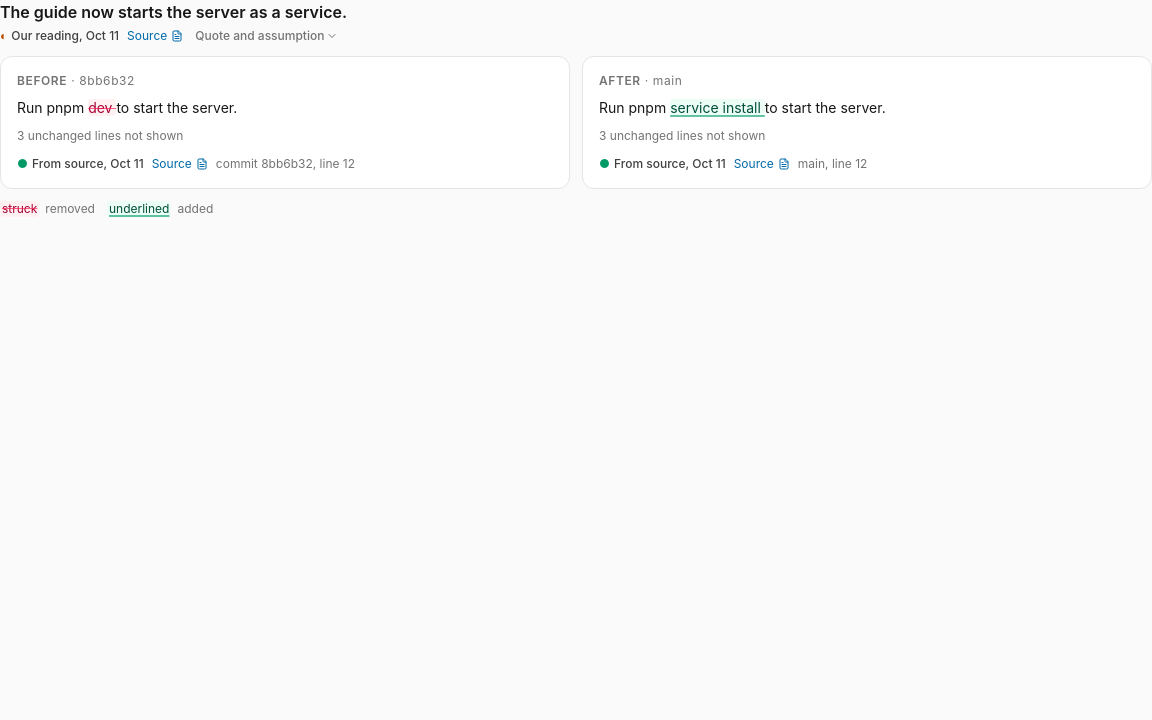
BeforeAfter › gives the stated change its own mark and quote/assumption, beneath its statement
Click the button "Quote and assumption": (267,36) [195,28,338,44]
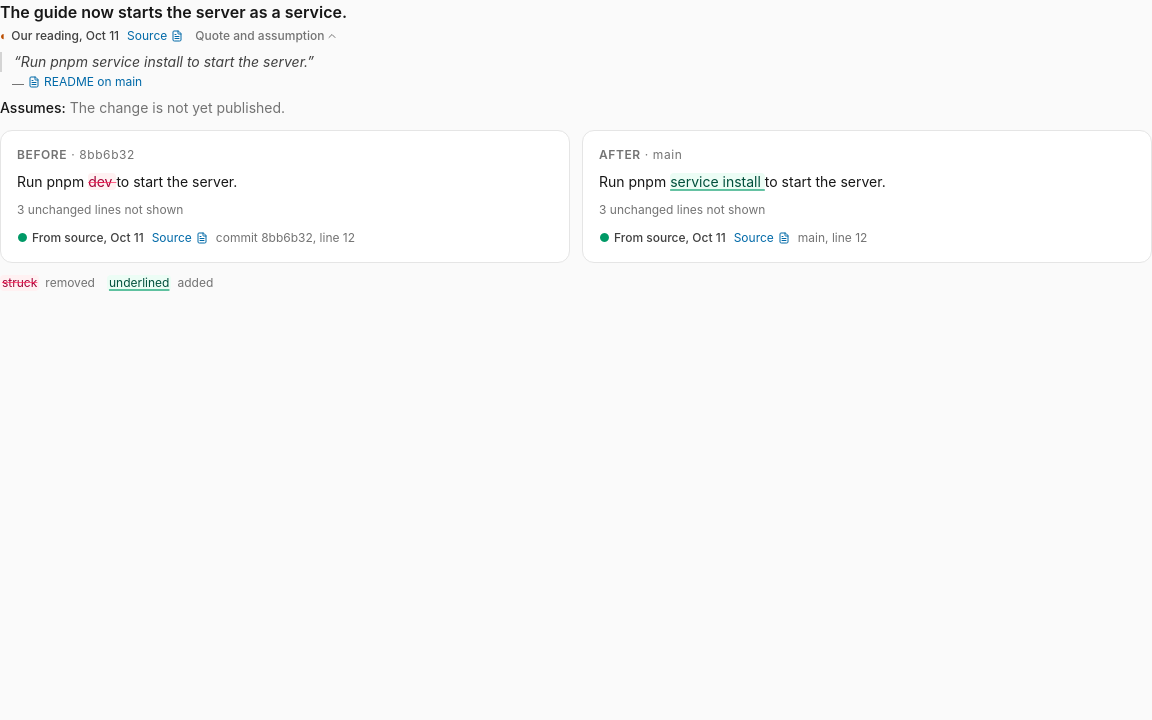
Expected: the text "The change is not yet published." is shown, [70,99,285,116]
Click the button "◐ Our reading, Oct 11": (60,36) [0,28,119,44]
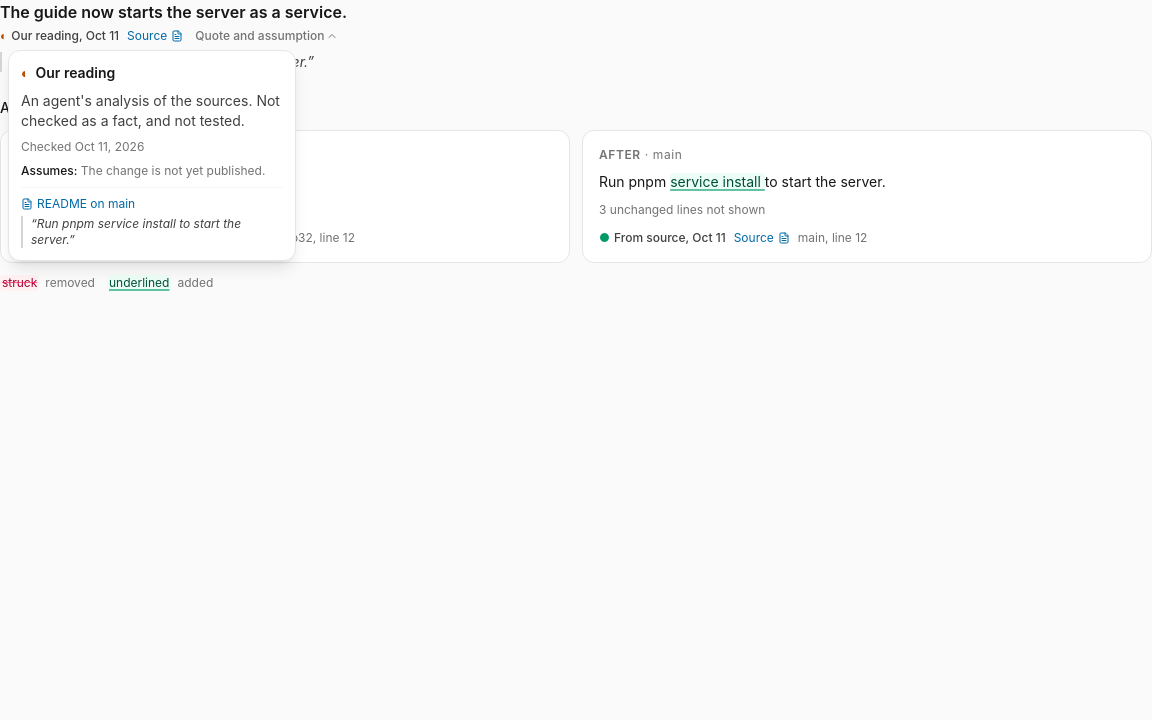
Expected: the dialog shows "README on main", [21,196,135,212]
